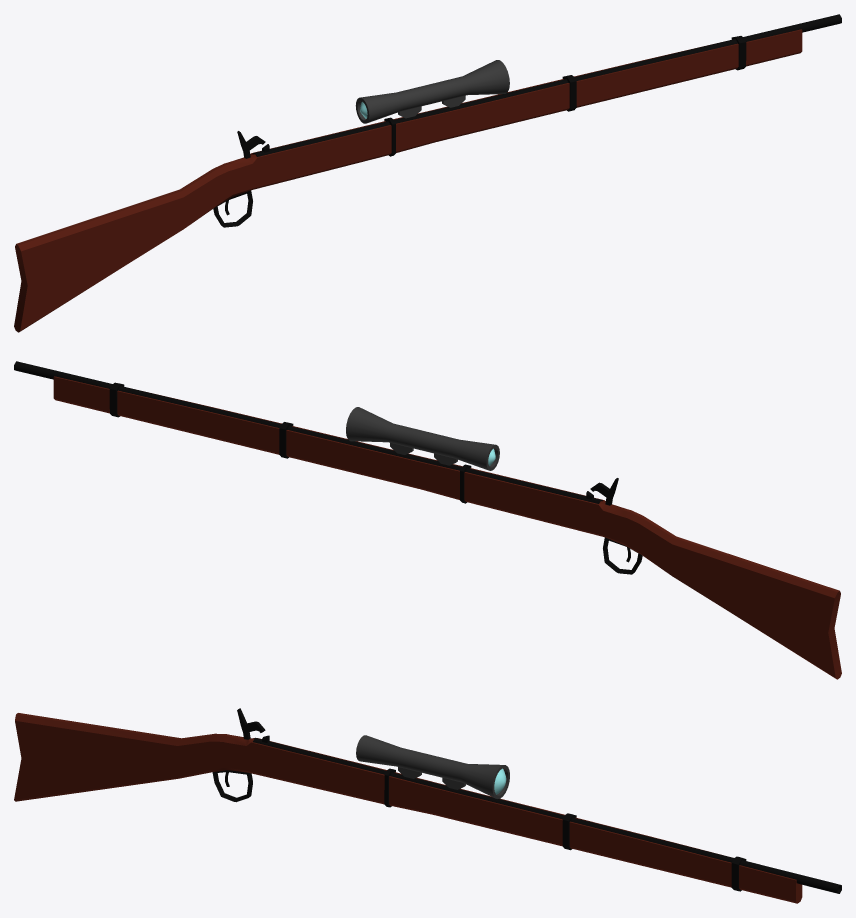
File: Musket_final.FBX
3 renders of one model, top to bottom at view 1: azimuth 30°, elevation 25°; view 2: azimuth 150°, elevation 25°; view 3: azimuth 330°, elevation 25°, orthographic.
Visible parts, largest first — view 1: Stock, Scope, Barrel; view 2: Stock, Scope, Barrel; view 3: Stock, Scope, Barrel, Trigger ring.
Part boxes in pixels (x1,y1,x2,y2): Stock: (14,29,802,332); Scope: (355,60,509,123); Barrel: (253,14,841,156); Stock: (53,376,841,679); Scope: (346,407,499,470); Barrel: (14,361,602,503); Stock: (14,713,802,903); Scope: (356,735,509,798); Barrel: (253,735,841,893); Trigger ring: (212,770,252,802).
Bounding box in the file's own units: 144 × 25.55 × 5.37.
